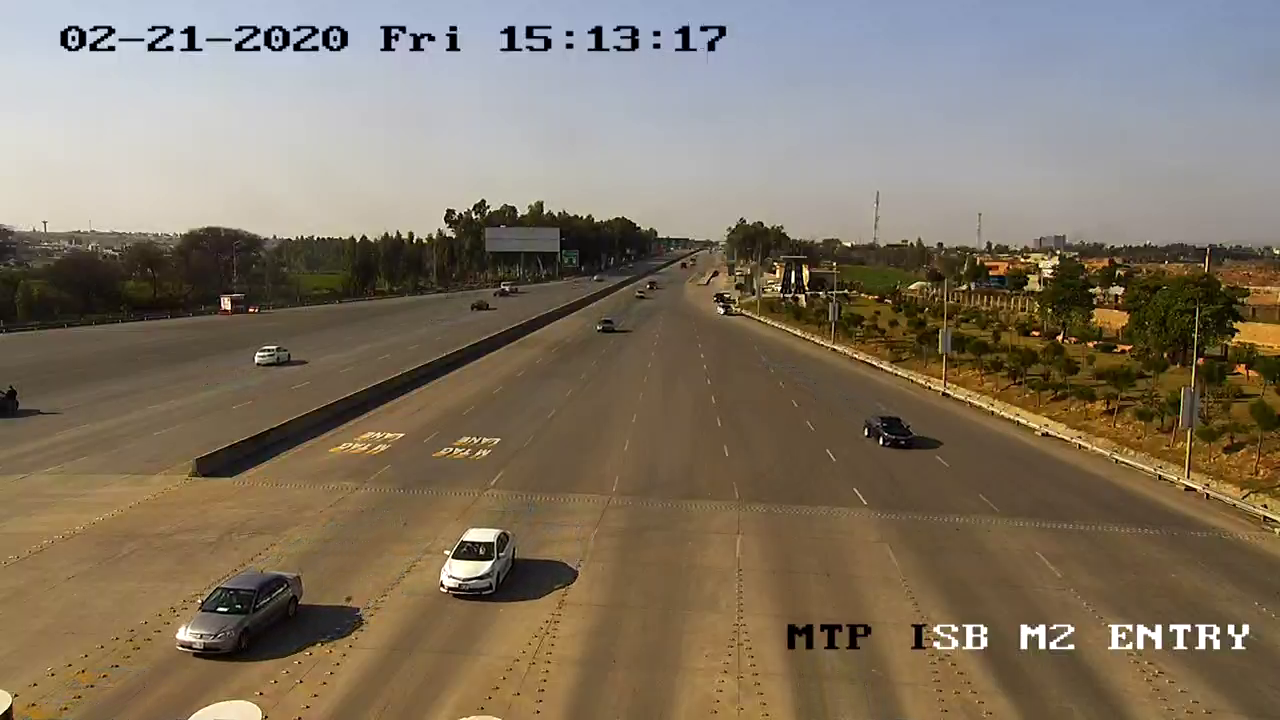f1: (170, 557, 310, 664), (433, 522, 521, 603), (860, 407, 925, 457)
